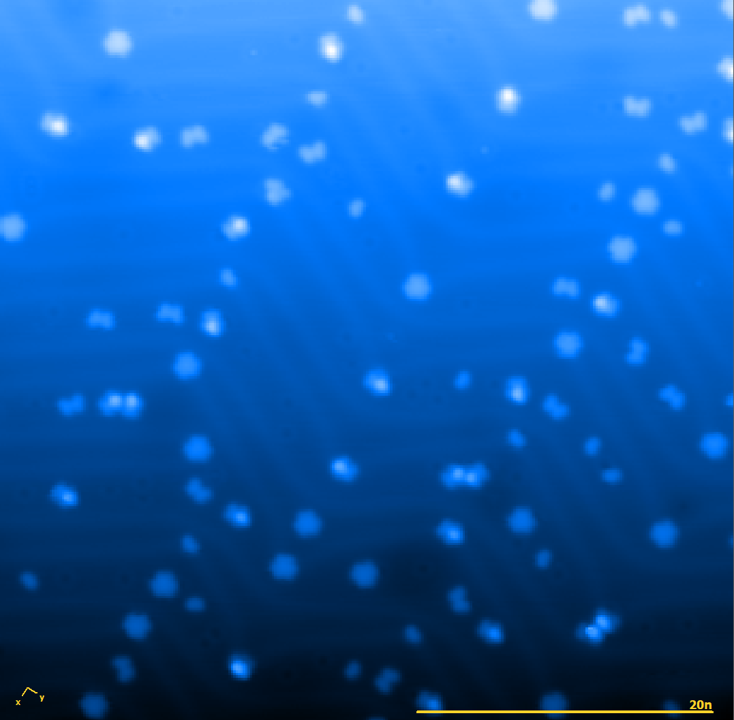M: (647, 518, 681, 551), (698, 430, 731, 463), (506, 504, 537, 537), (401, 270, 432, 302), (291, 508, 324, 538), (553, 329, 584, 360), (172, 350, 203, 380), (102, 27, 133, 57), (607, 233, 637, 264), (350, 558, 380, 588), (269, 552, 300, 581), (182, 433, 213, 462), (149, 570, 179, 599), (630, 186, 660, 215), (121, 612, 152, 639)
